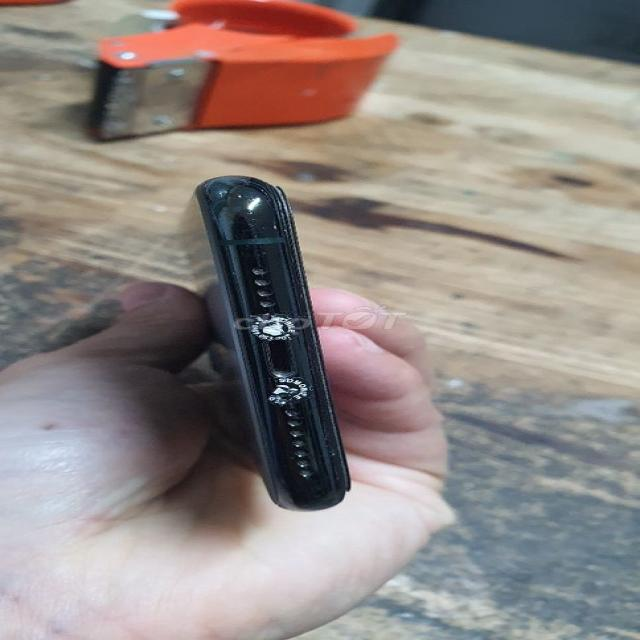gen_11: (184, 176, 349, 510)
scratch: (225, 193, 291, 279), (316, 444, 360, 466)
